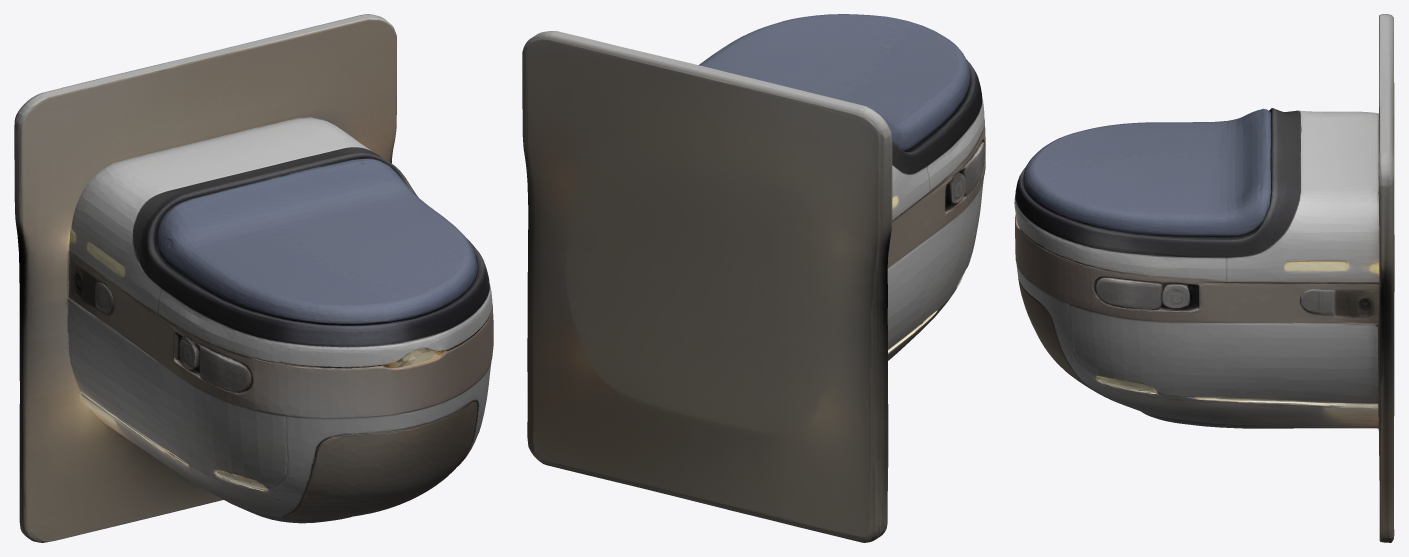
Rendered from toilet.glb.
3 views of the same model, side by side, from view 1: azimuth 30°, elevation 25°; view 2: azimuth 150°, elevation 25°; view 3: azimuth 270°, elevation 25° (orthographic). The views are drawn at different scales.
Visible parts, largest first — view 1: world; view 2: world; view 3: world.
Boxes of the visible parts, x1,y1,x2,y2 form: world: (14, 14, 493, 542); world: (522, 14, 985, 542); world: (1014, 14, 1394, 542).
Bounding box in the file's own units: 0.8893 × 1 × 0.8875.
Materials: 1 (1 with a texture image).
